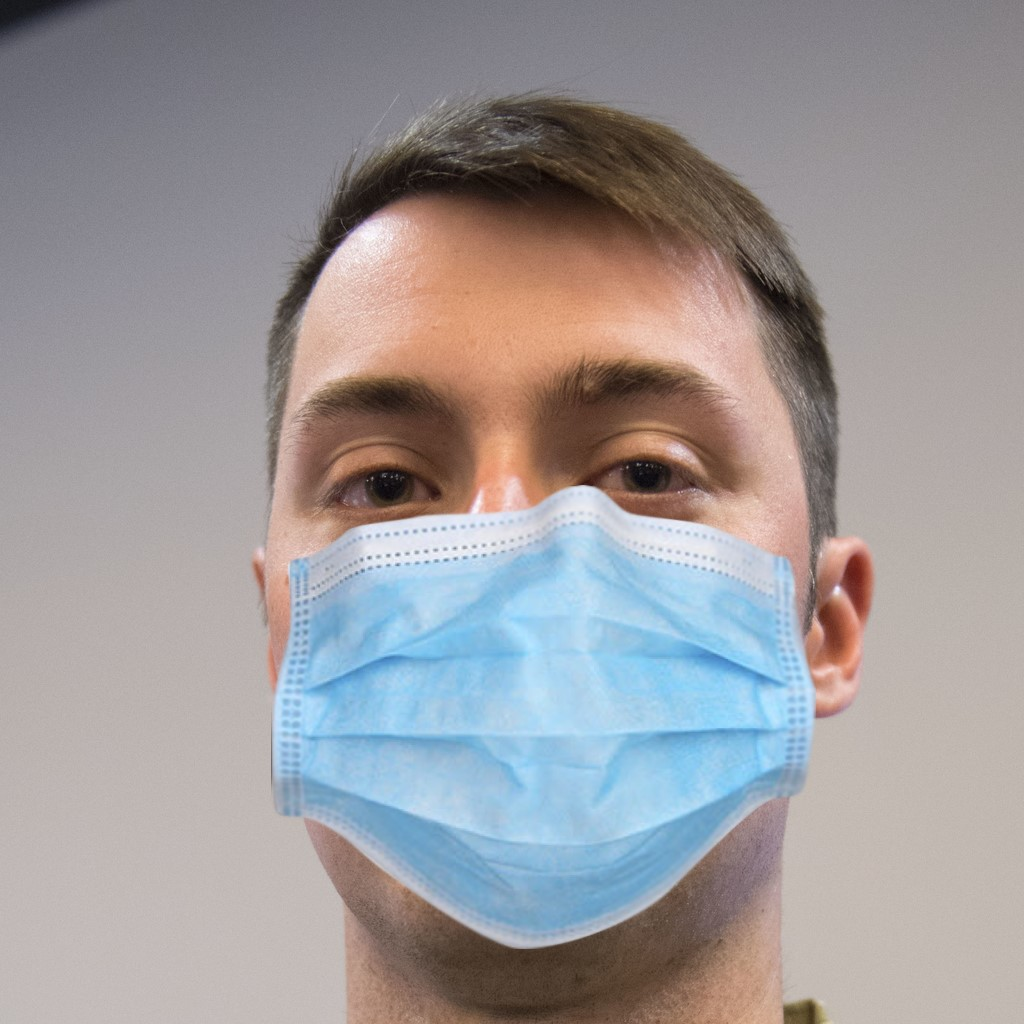con_mascara: (237, 157, 832, 995)
